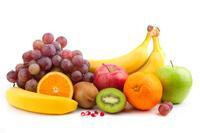apple: (154, 63, 192, 103), (92, 63, 128, 91)
